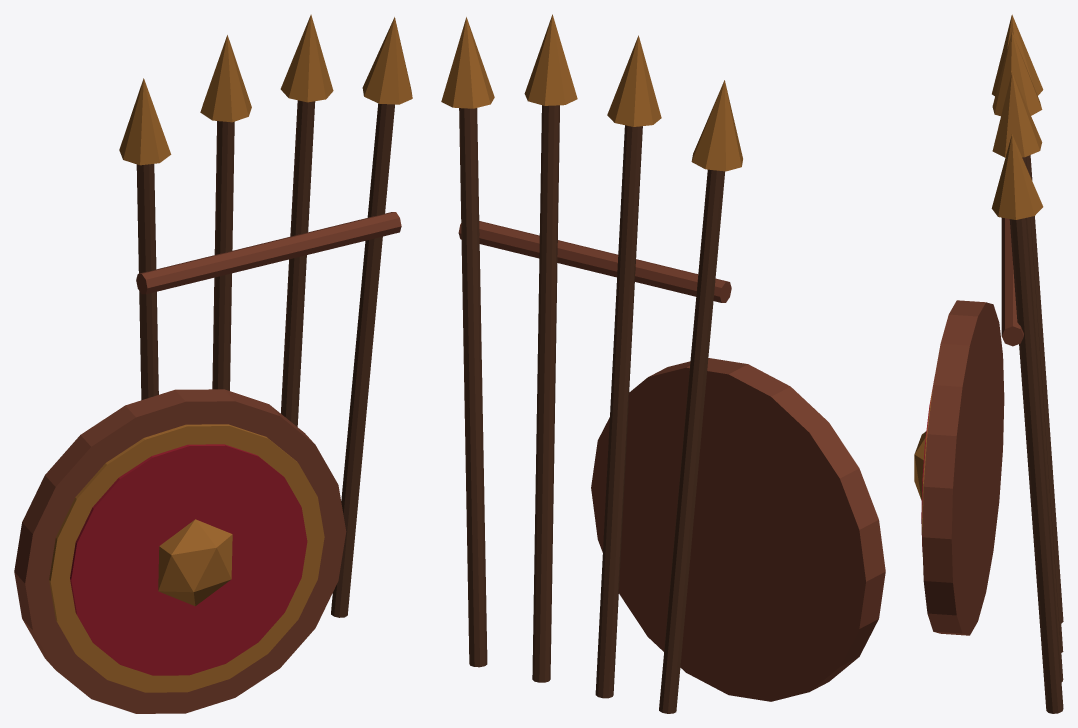
Rendered from battle_spear_shield_rack_LOD0.glb.
The picture shows the model from 3 angles, left to right: view 1: azimuth 30°, elevation 25°; view 2: azimuth 150°, elevation 25°; view 3: azimuth 270°, elevation 25°; orthographic projection. The views are drawn at different scales.
Parts seen in each view (by area): view 1: battle_spear_shield_rack_LOD0; view 2: battle_spear_shield_rack_LOD0; view 3: battle_spear_shield_rack_LOD0.
Boxes of the visible parts, x1,y1,x2,y2 form: battle_spear_shield_rack_LOD0: (14,14,412,713); battle_spear_shield_rack_LOD0: (441,14,885,713); battle_spear_shield_rack_LOD0: (914,14,1063,713).
Bounding box in the file's own units: 1.86 × 2.78 × 0.6023.
